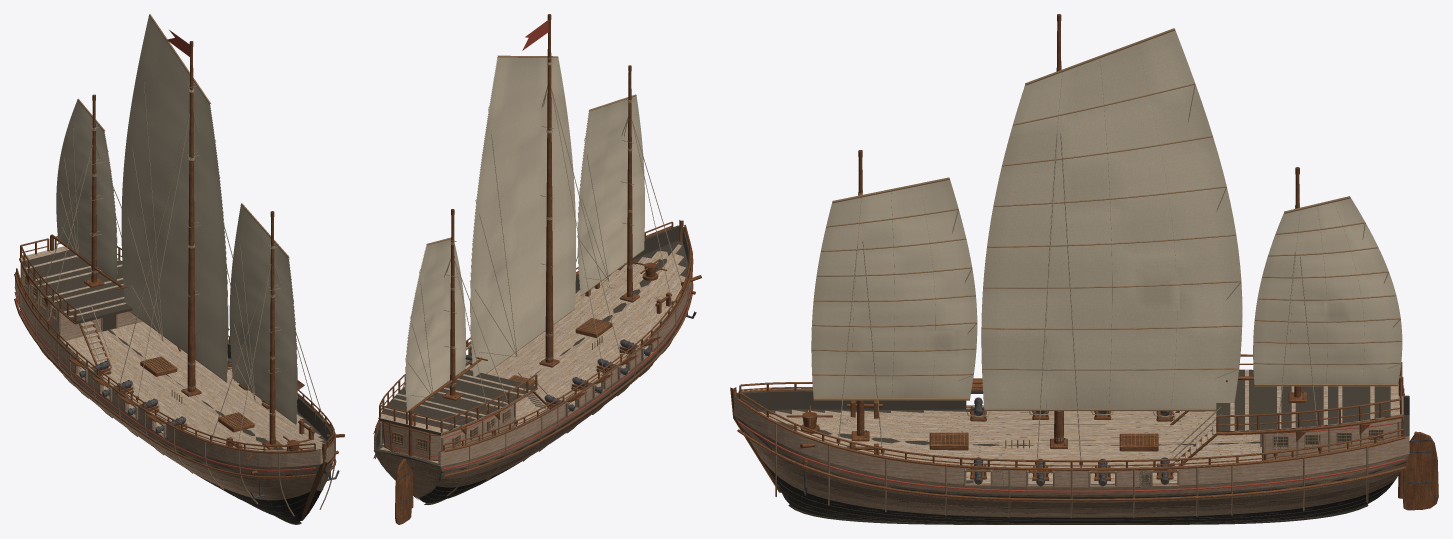
Rendered from fuchuan-lod1.glb.
3 renders of one model, left to right at view 1: azimuth 30°, elevation 25°; view 2: azimuth 150°, elevation 25°; view 3: azimuth 270°, elevation 25°, orthographic. The views are drawn at different scales.
Parts seen in each view (by area): view 1: sail_1, hull, deck, sail_0, sail_2, shadow_deck, deck_fittings, bulwark_rails, mast_timber_1, shadow_hull, sterncastle, mast_timber_0 (+5 smaller); view 2: sail_1, deck, hull, sail_0, sail_2, shadow_deck, deck_fittings, shadow_hull, bulwark_rails, mast_timber_1, mast_timber_0, stern_transom (+7 smaller); view 3: sail_1, hull, sail_0, sail_2, deck, shadow_hull, shadow_deck, bulwark_rails, deck_fittings, rudder_blade, sterncastle, rigging_1.
Part boxes in pixels (x1,y1,x2,y2): sail_1: (121,14,228,382); hull: (14,273,336,524); deck: (19,246,325,451); sail_0: (229,203,297,424); sail_2: (56,98,117,281); shadow_deck: (22,250,132,324); deck_fittings: (20,264,344,498); bulwark_rails: (16,236,334,450); mast_timber_1: (187,47,195,392); shadow_hull: (15,272,332,521); sterncastle: (22,269,143,341); mast_timber_0: (269,217,275,444); sail_1: (469,55,575,377); deck: (378,244,685,463); hull: (373,220,693,504); sail_0: (577,94,644,295); sail_2: (405,237,465,411); shadow_deck: (379,369,536,435); deck_fittings: (379,259,701,460); shadow_hull: (374,225,689,502); bulwark_rails: (375,221,691,450); mast_timber_1: (545,20,553,362); mast_timber_0: (627,71,632,297); stern_transom: (384,423,440,459); sail_1: (981,28,1242,411); hull: (730,387,1409,524); sail_0: (811,177,977,400); sail_2: (1253,196,1402,386); deck: (759,369,1403,483); shadow_hull: (734,390,1409,523); shadow_deck: (1216,369,1390,432); bulwark_rails: (739,354,1404,467); deck_fittings: (786,385,1403,494); rudder_blade: (1402,431,1438,510); sterncastle: (1262,418,1400,460); rigging_1: (1035,132,1082,473).
Bounding box in the file's own units: 10.4 × 26.66 × 33.57.
13 materials, 8 textured.
